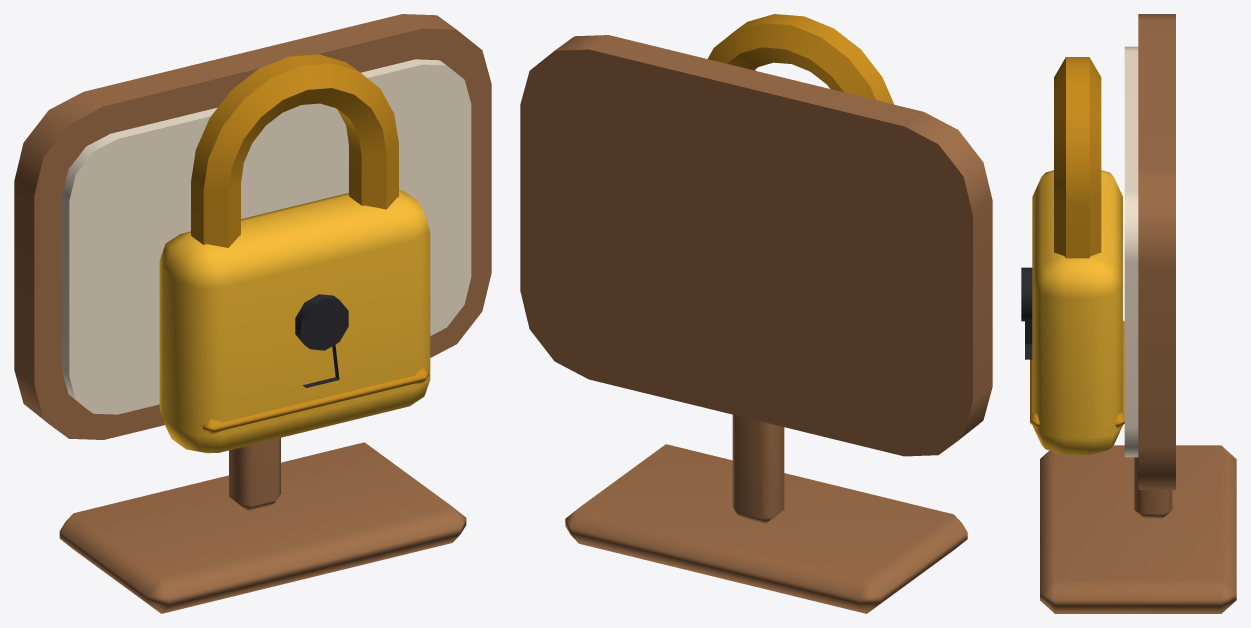
The model's file is sperre_schild.glb.
3 renders of one model, left to right at view 1: azimuth 30°, elevation 25°; view 2: azimuth 150°, elevation 25°; view 3: azimuth 270°, elevation 25°, orthographic. The views are drawn at different scales.
Parts seen in each view (by area): view 1: sperre_schild; view 2: sperre_schild; view 3: sperre_schild.
Boxes of the visible parts, bbox=[...] form: sperre_schild: bbox=[14, 14, 491, 613]; sperre_schild: bbox=[520, 14, 992, 613]; sperre_schild: bbox=[1021, 14, 1236, 613].
Size of the model in its own units: 0.66 by 0.701 by 0.2844.
